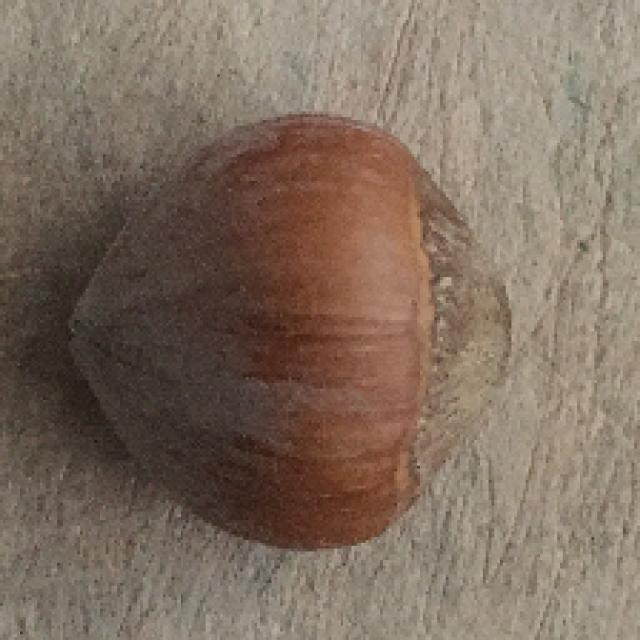qualityHazelnut: (66, 106, 517, 547)
